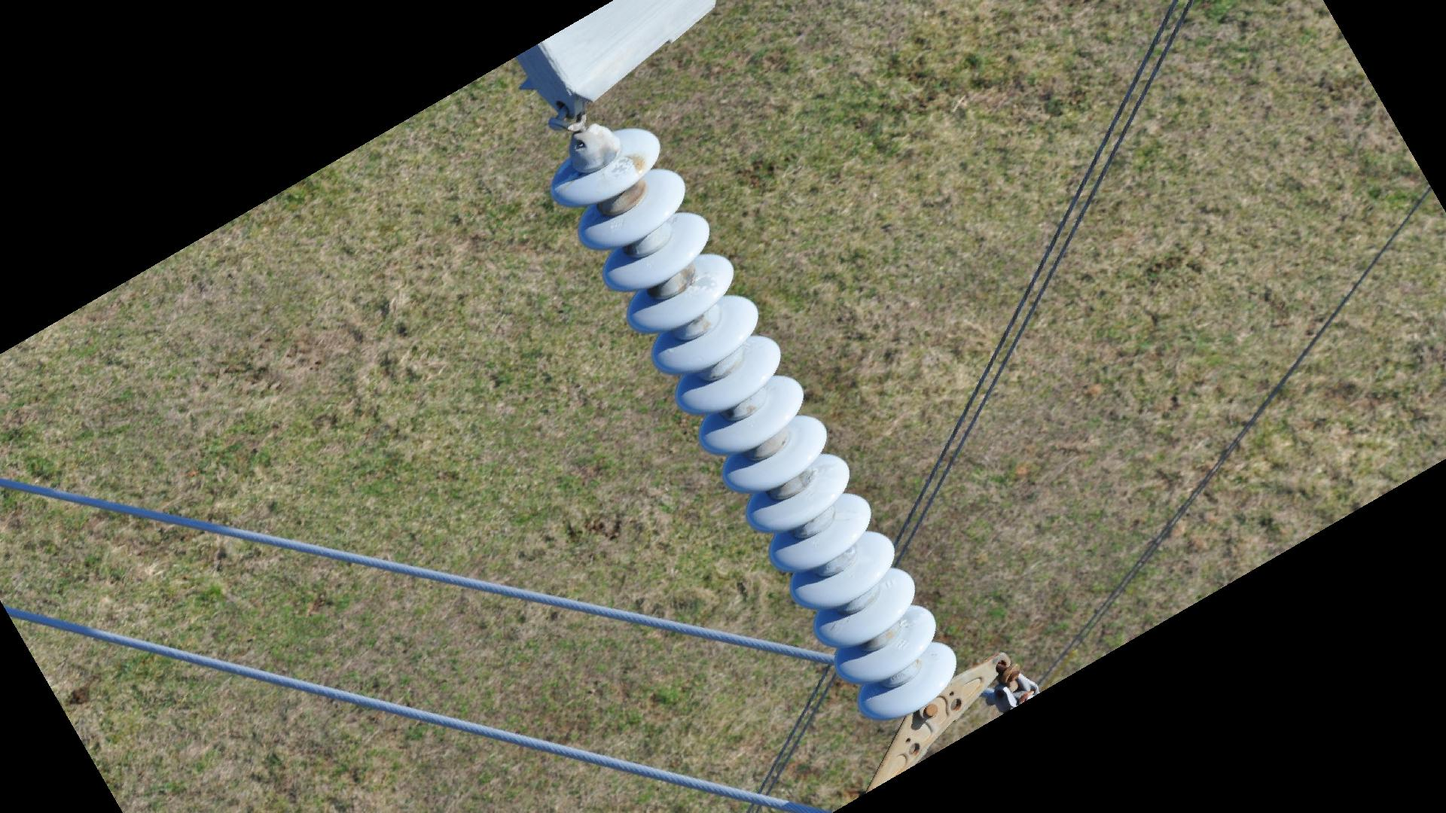insulator: (548, 123, 959, 727)
insulator_flashover: (604, 154, 641, 184), (685, 270, 721, 294)
